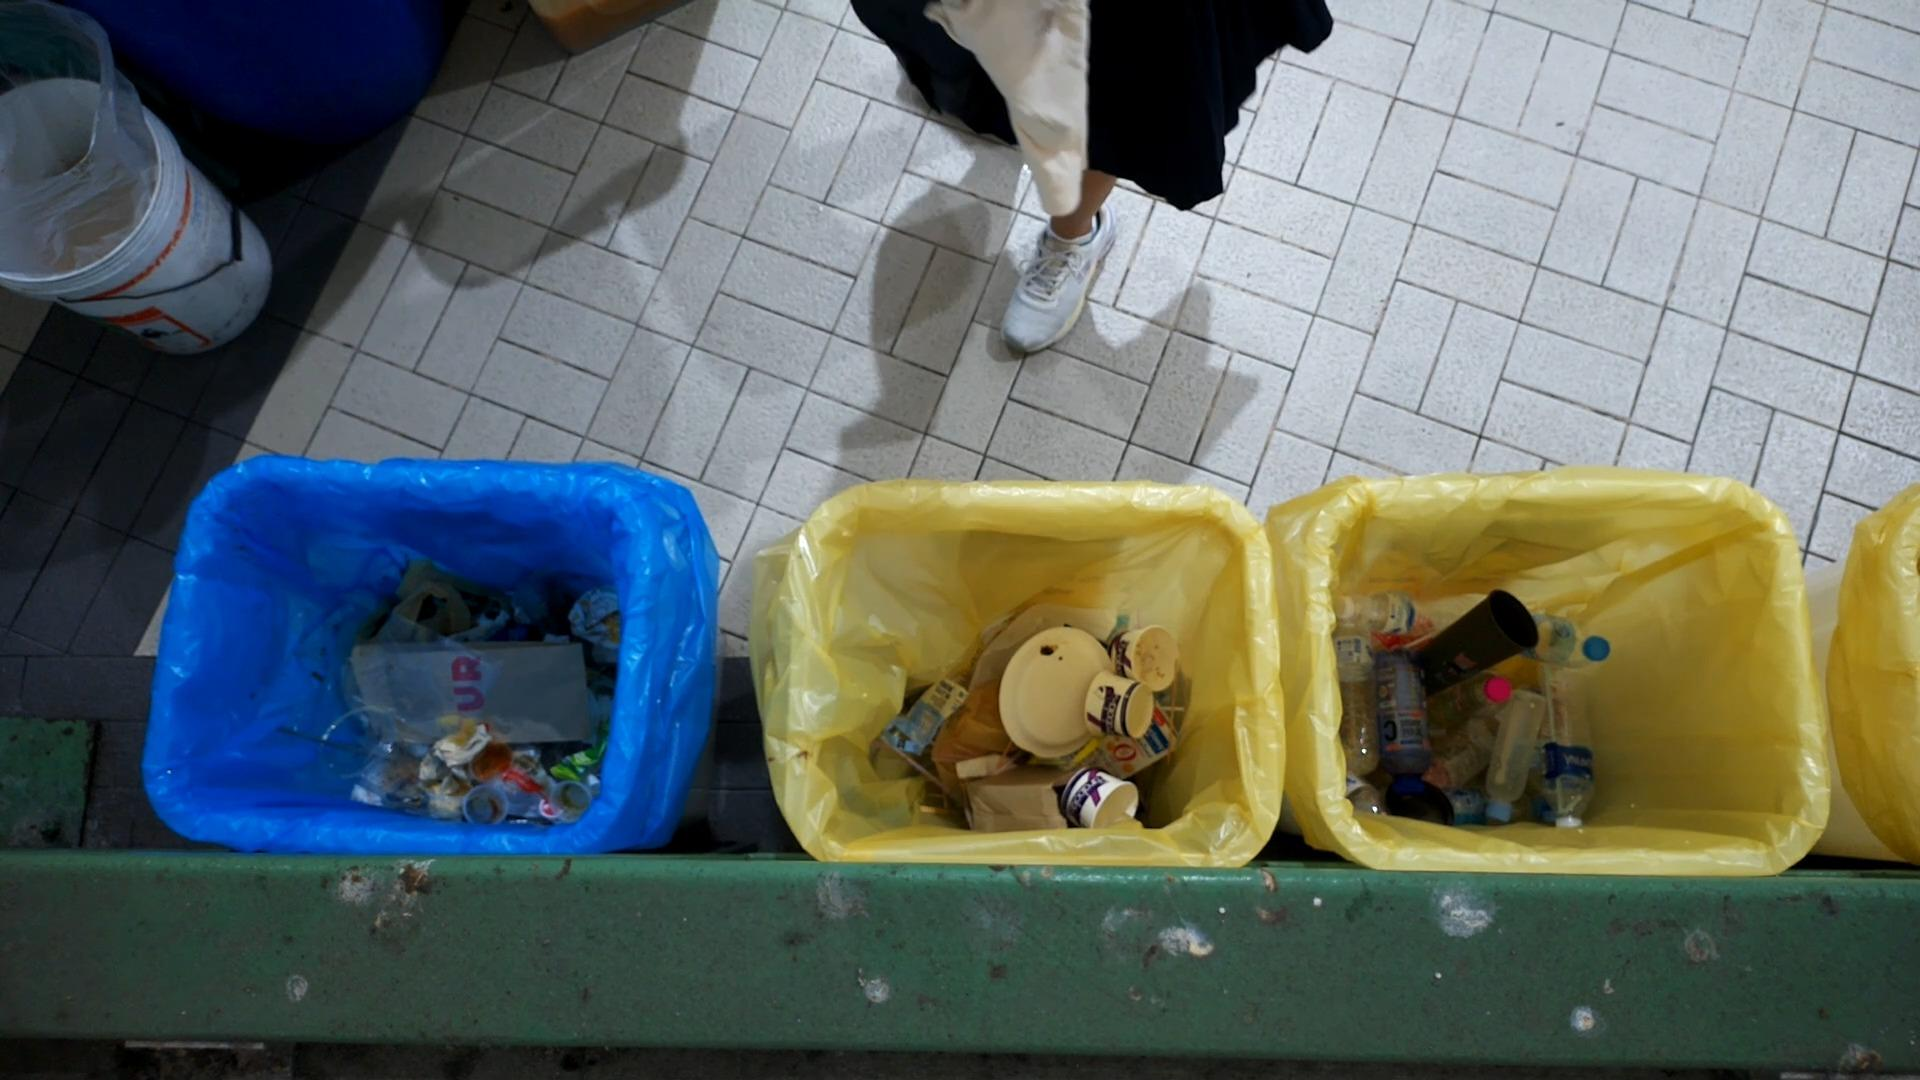food container: (993, 622, 1121, 762), (1056, 762, 1143, 835), (1083, 667, 1159, 748), (1112, 624, 1183, 698), (459, 781, 510, 828)
milk carton: (1089, 704, 1185, 785)
plastic bottle: (1324, 596, 1387, 775), (1373, 645, 1440, 800), (1539, 666, 1594, 839), (1487, 688, 1547, 827), (1531, 604, 1617, 675)
plastic cup: (1416, 584, 1547, 699), (315, 705, 440, 815)
snack packaging: (344, 625, 603, 758)
tissue paper: (418, 717, 496, 782)
